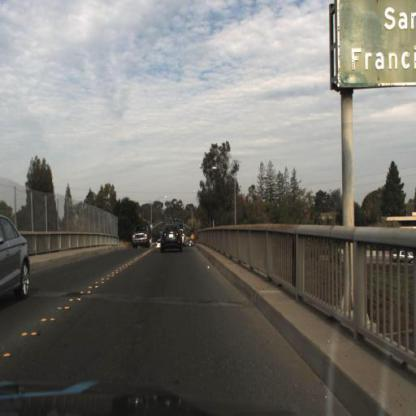car: (2, 210, 32, 314), (160, 223, 185, 256), (134, 228, 151, 249)
